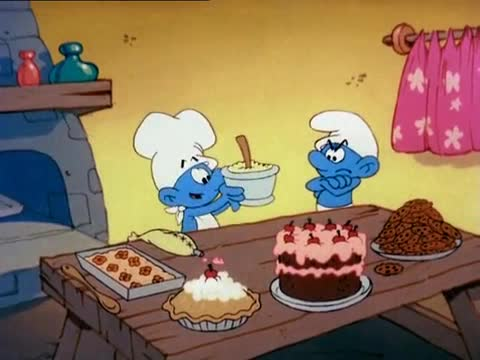smurf: (129, 109, 243, 232), (305, 110, 379, 216)
